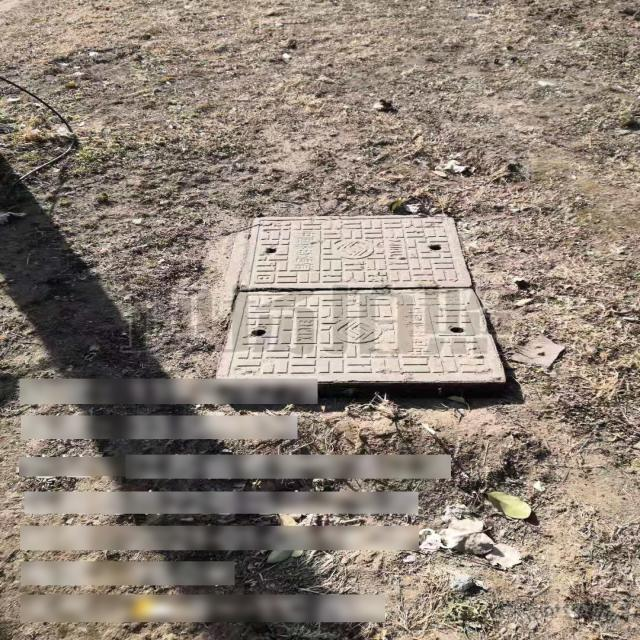Lose: (216, 214, 514, 400)
